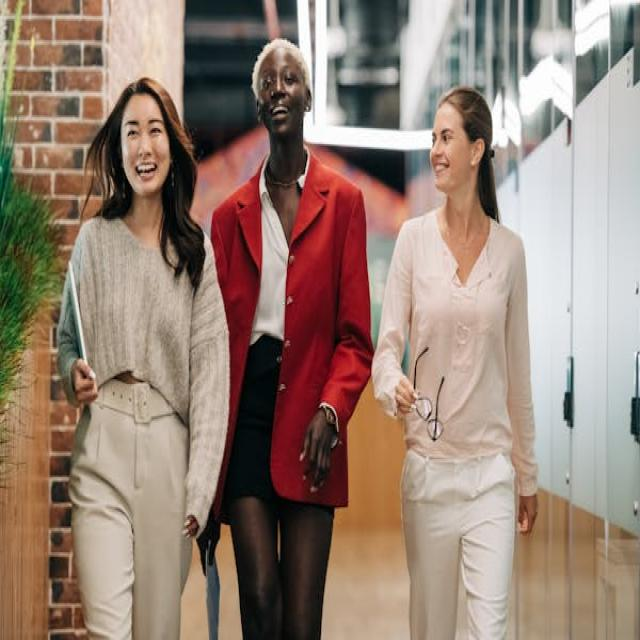Real human 2: (59, 33, 548, 640)
